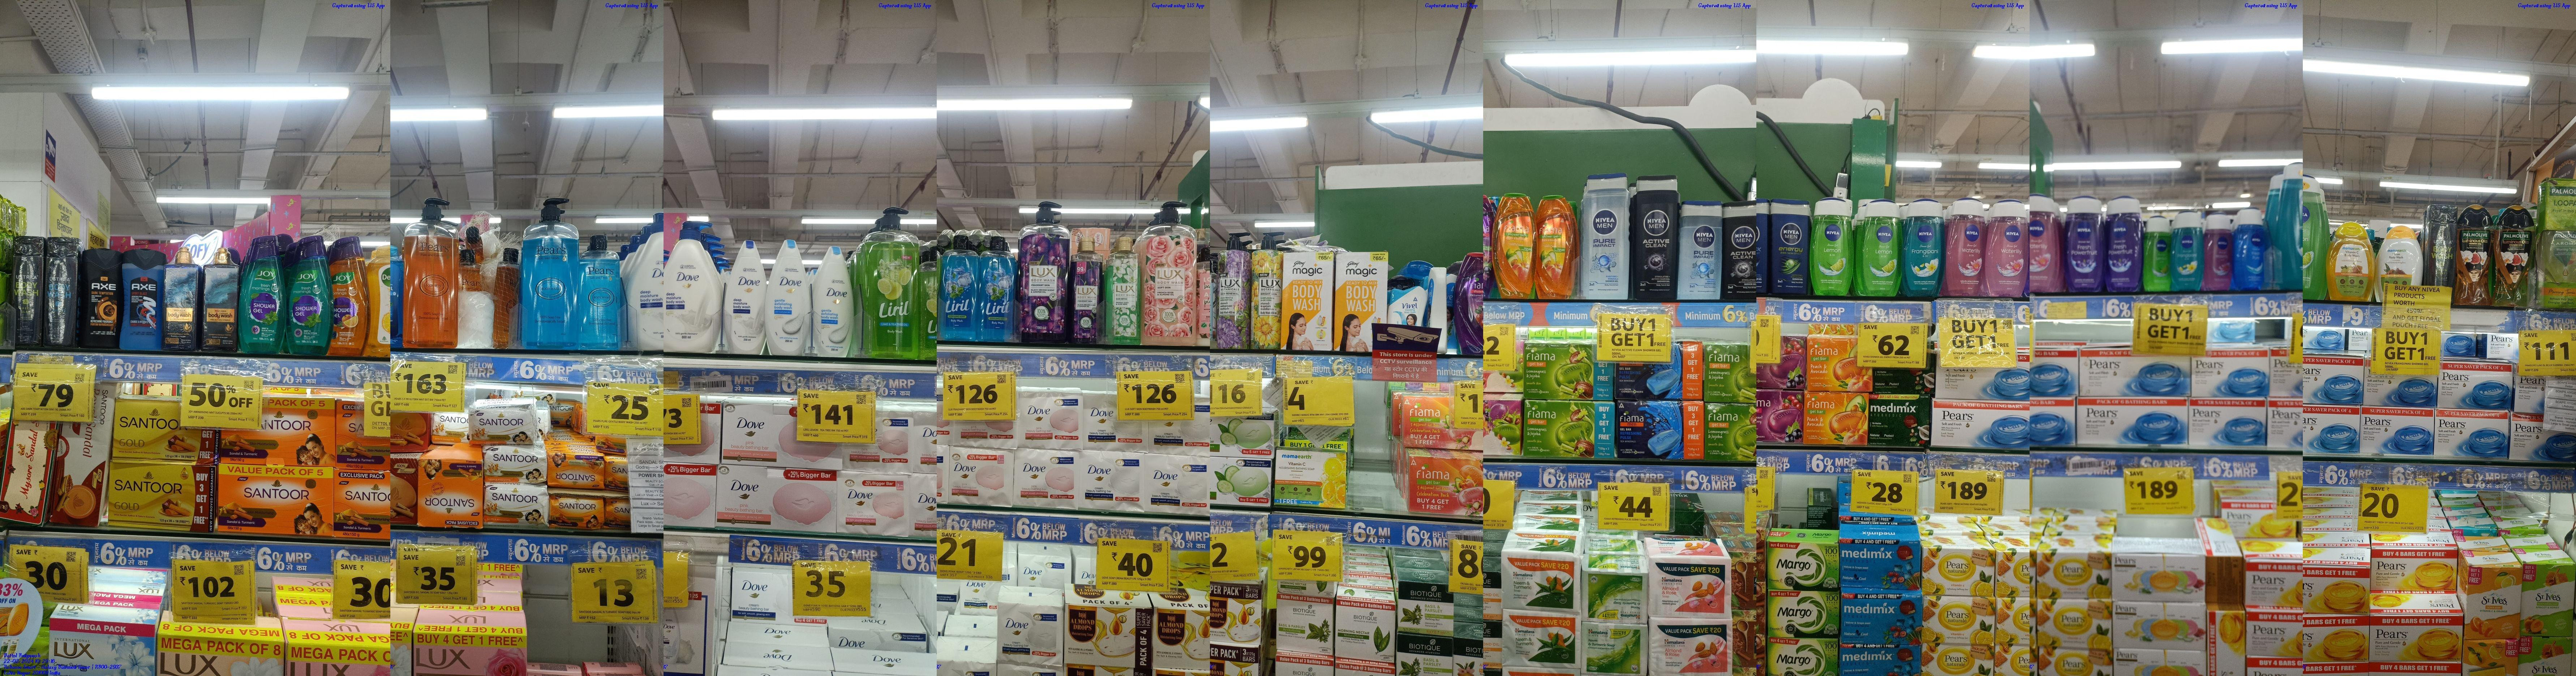Dove_Deep_Moisture_Body_Wash_250ML: (726, 240, 766, 354)
Dove_Gentle_Exfoliating_Body_Wash_250ML: (769, 240, 810, 354), (815, 243, 853, 356)
Fiama_Shower_Gel_Peach_and_Avocado_250ML: (1493, 195, 1538, 299), (1539, 192, 1577, 300)
Joy_Shower_Gel_Mandarin_and_Lemongrass_250ML: (332, 240, 368, 358)
Joy_Shower_Gel_Mint_and_Eucalyptus_250ML: (238, 235, 289, 354), (292, 236, 330, 354)
Liril_Cooling_Mint_Body_Wash_250ML: (945, 233, 978, 340), (982, 236, 1014, 341)
Lux_Black_Orchid_Scent_and_Juniper_Oil_Body_Wash_245ML: (1071, 236, 1104, 343)
Lux_Body_Wash_Skin_Detox_Freesia_Scent_and_Alove_Vera_245ML: (1107, 236, 1142, 345)
Nivea_Shower_Gel_Frangipani_and_Oil_250ML: (1904, 199, 1943, 299)
Nivea_Shower_Gel_Fresh_Powerfruit_250ML: (2065, 197, 2106, 292), (2108, 199, 2144, 290)
Nivea_Shower_Gel_Lemon_and_Oil_250ML: (1812, 195, 1855, 295), (1861, 197, 1899, 297)
Nivea_Shower_Gel_Waterlily_and_Oil_250ML: (1988, 197, 2029, 295), (1947, 197, 1985, 299), (2032, 195, 2062, 294)
Palmolive_Luminous_Oils_With_White_Orchid_Shower_Gel_250ML: (2497, 205, 2537, 307), (2454, 202, 2492, 305)
Pears_Pure_Glycerin_and_Mint_Extracts_Body_Wash_250ML: (580, 236, 623, 351)
